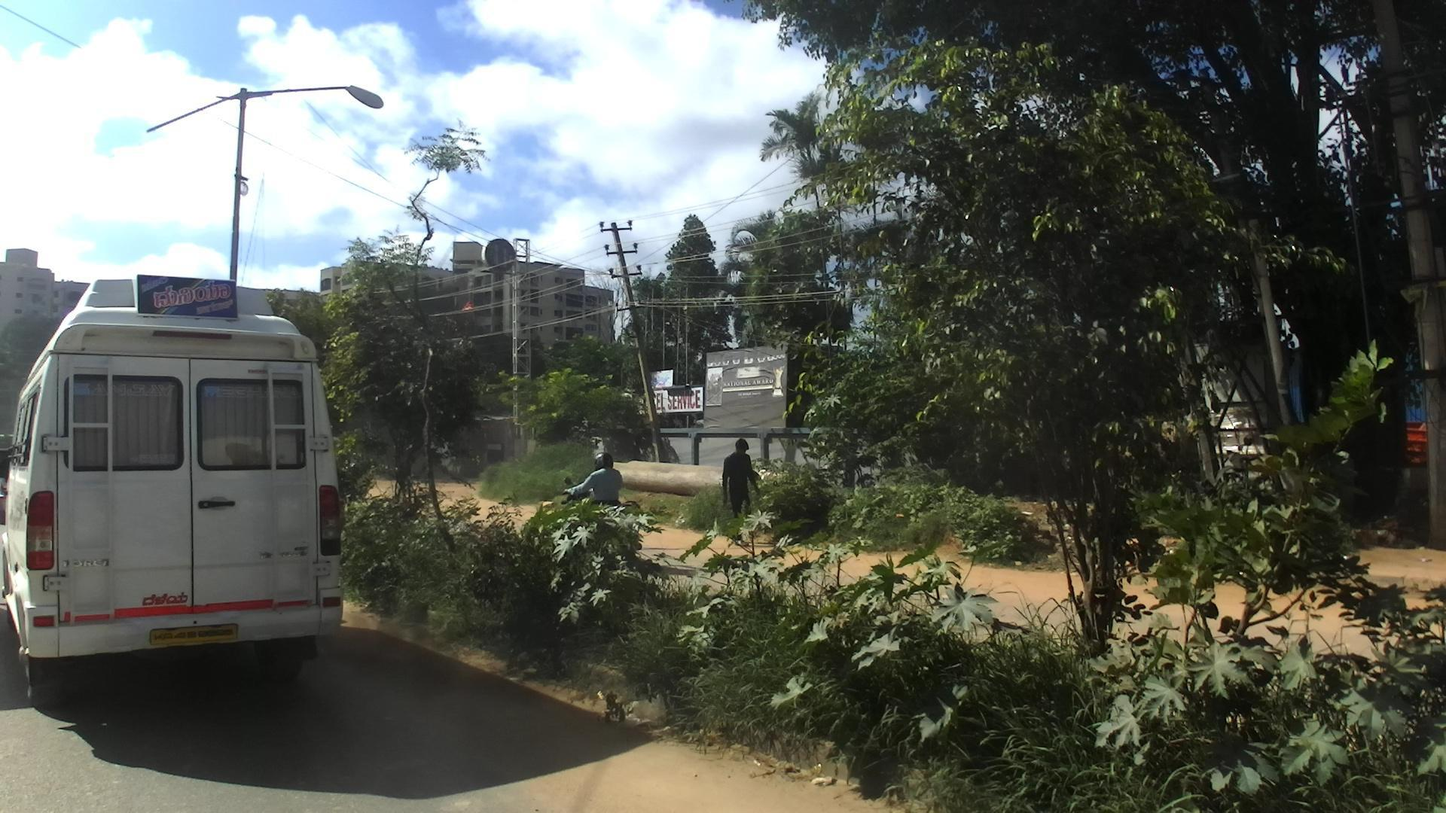streetlight: (236, 86, 385, 115)
